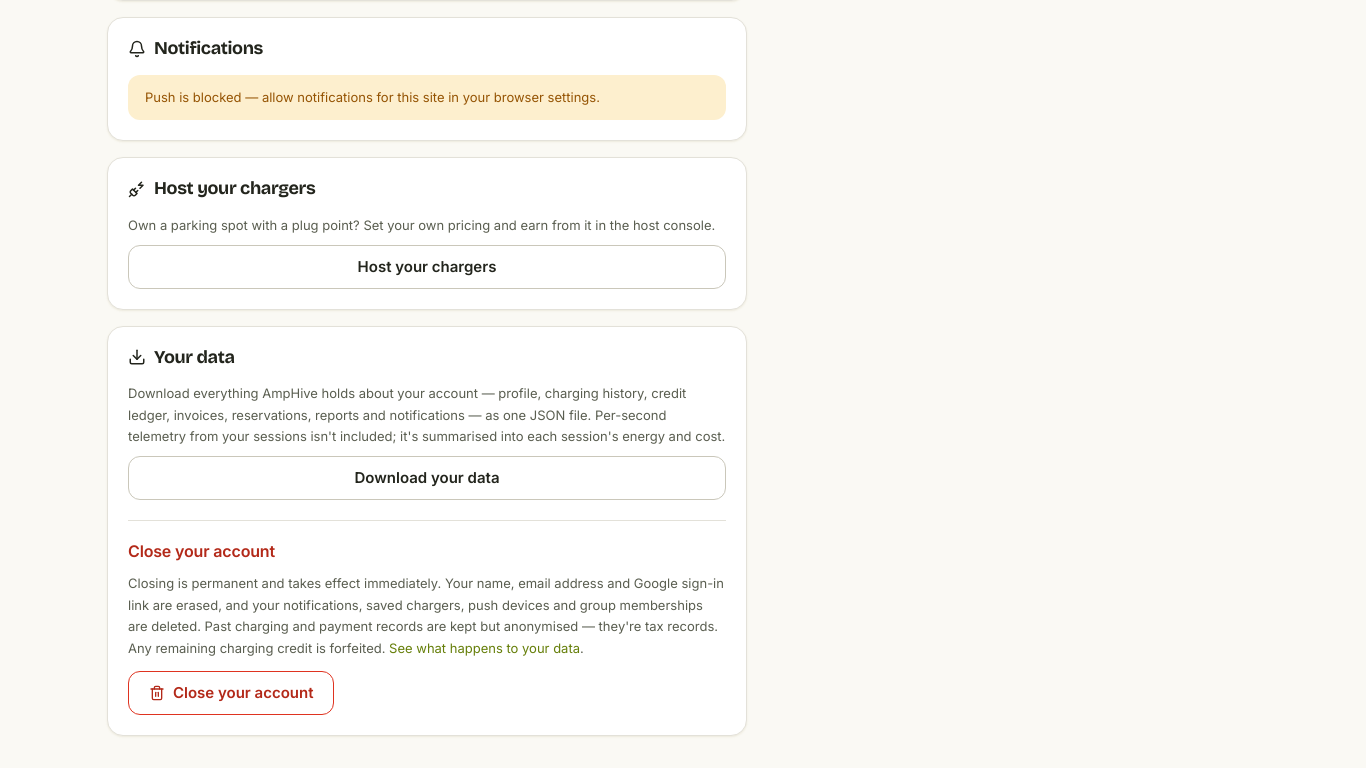
Test: your data — account closure › stays disabled for a near-miss phrase
The width and height of the screenshot is (1366, 768).
(page scrolled)
Click the button "Close your account" at {"x": 231, "y": 693}, box 128,671 -> 334,715
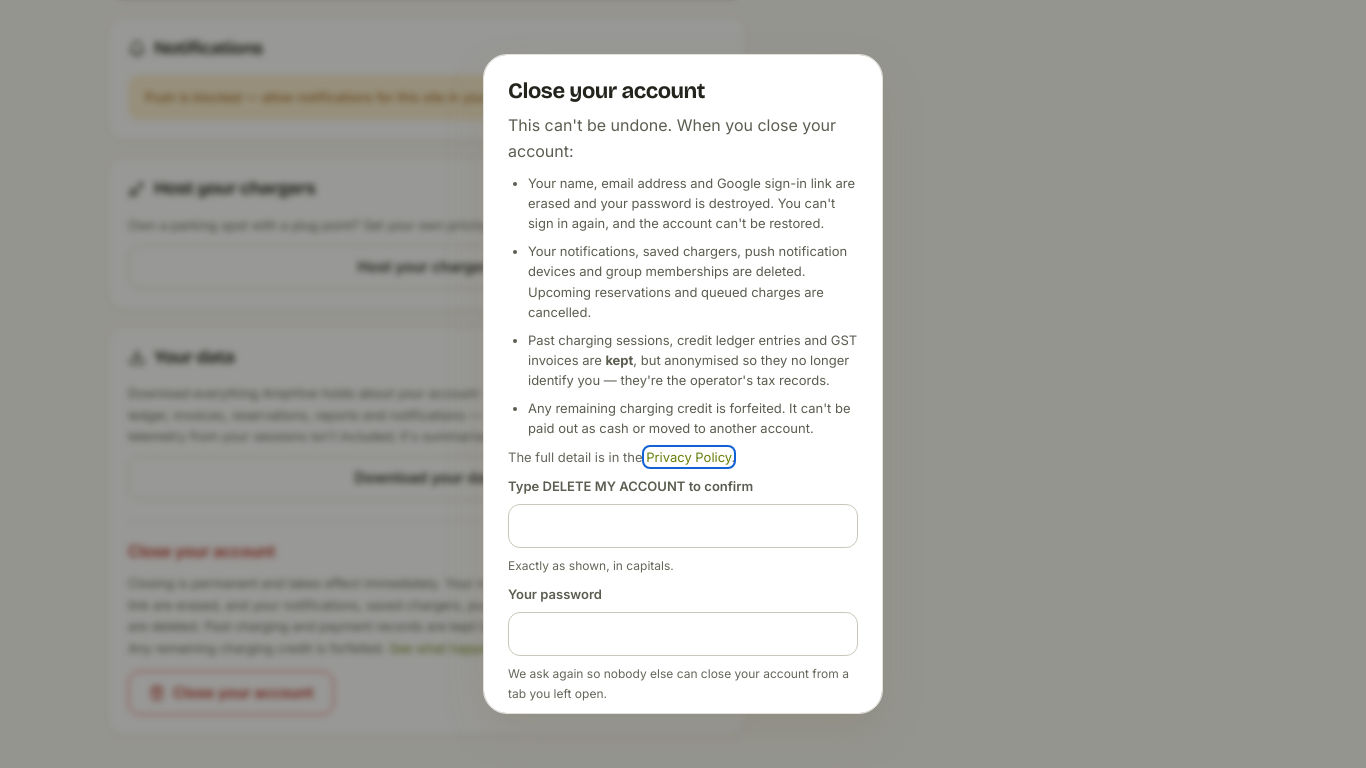
Type "delete my account" into the field labelled "Type DELETE MY ACCOUNT to confirm" at {"x": 683, "y": 526}, box 508,504 -> 858,548
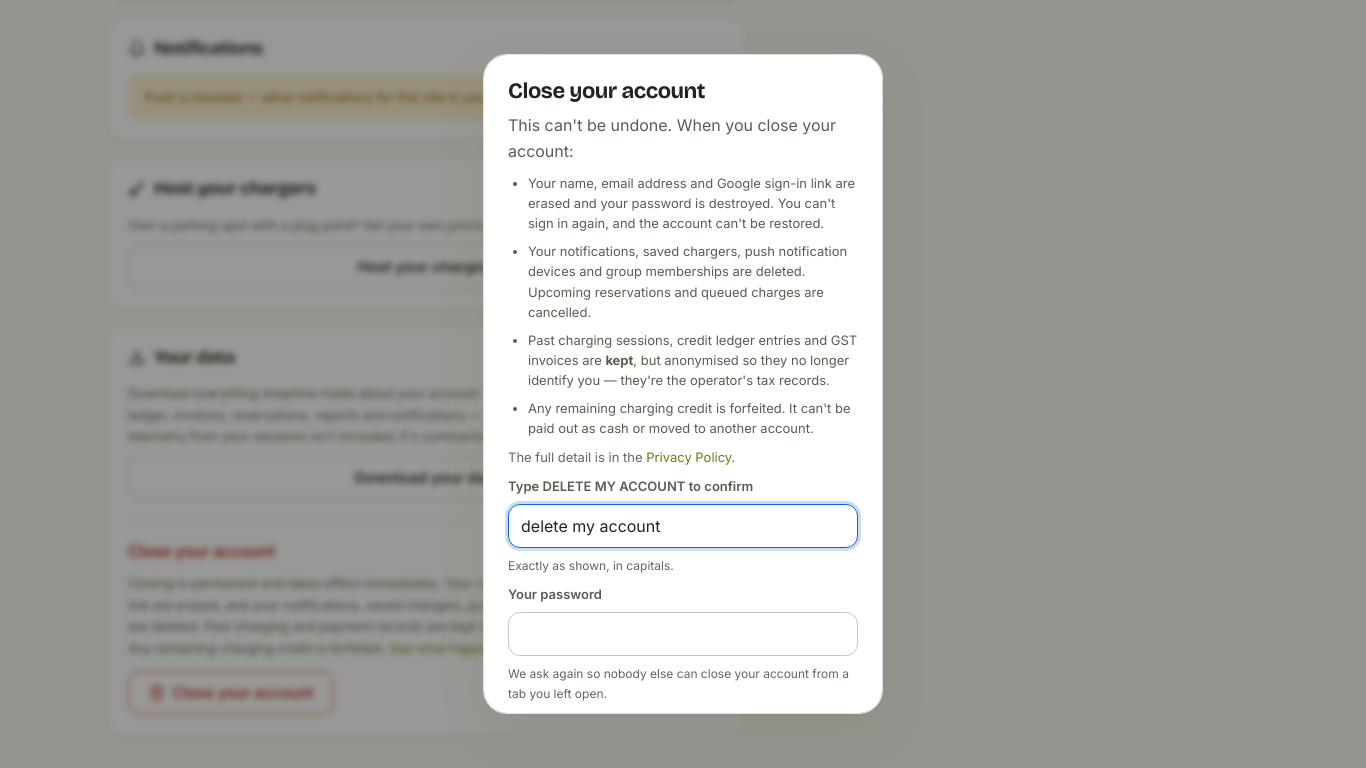
Type "hunter2hunter2" into the password field labelled "Your password" at {"x": 683, "y": 634}, box 508,612 -> 858,656
(page scrolled)
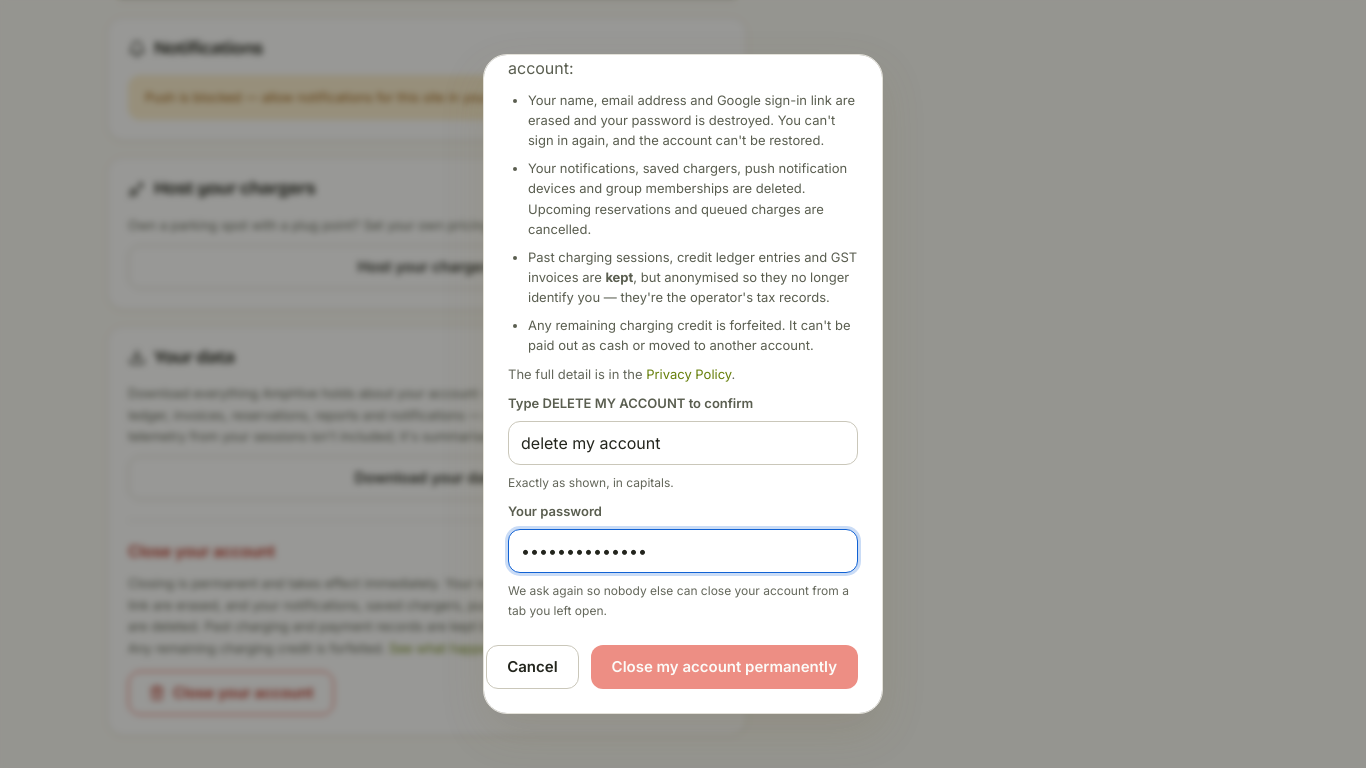
Check: the button "Close my account permanently" is disabled, box 591,645 -> 858,689
